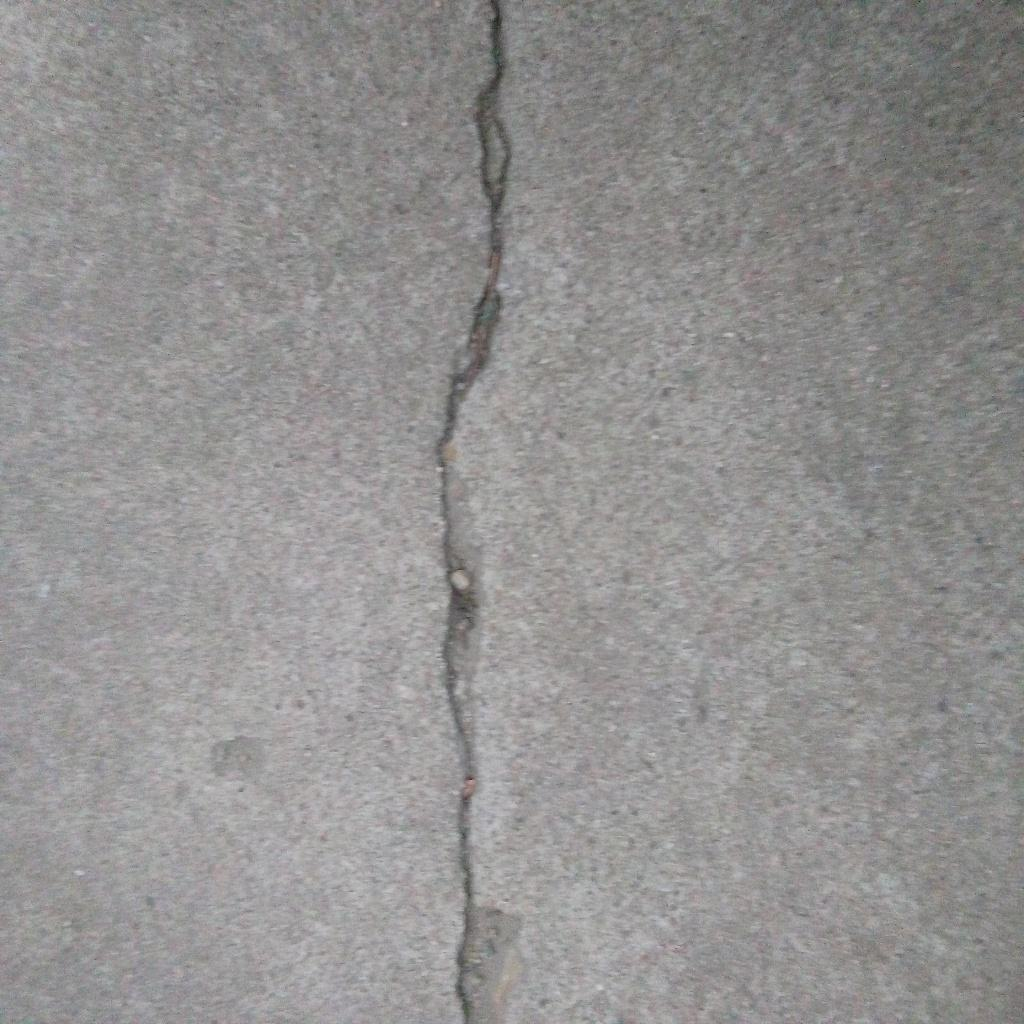Crack: (433, 1, 515, 1024)
Spalling: (207, 734, 267, 780)
